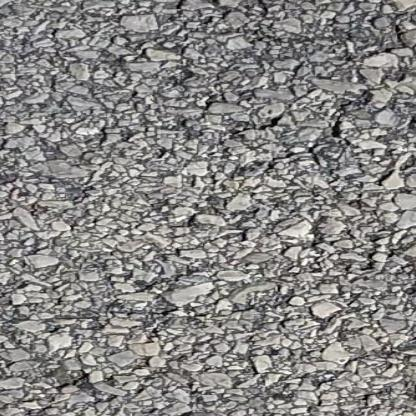Cracks: (0, 0, 416, 133)
